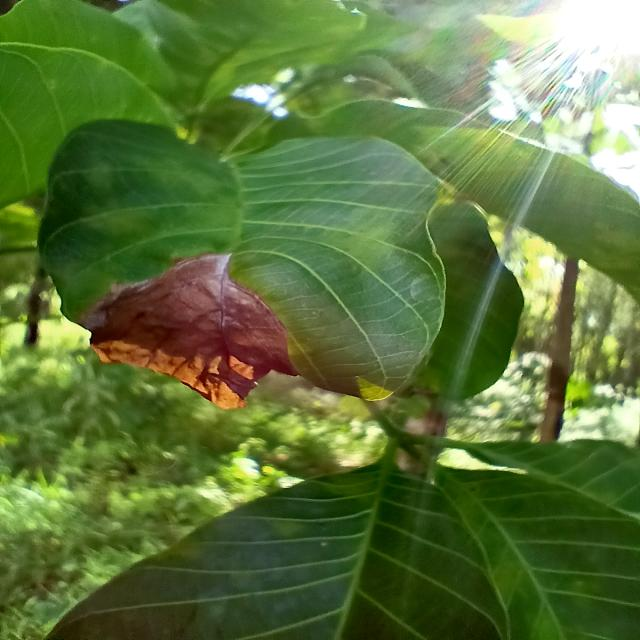Leaf-Blight: (80, 254, 300, 411)
